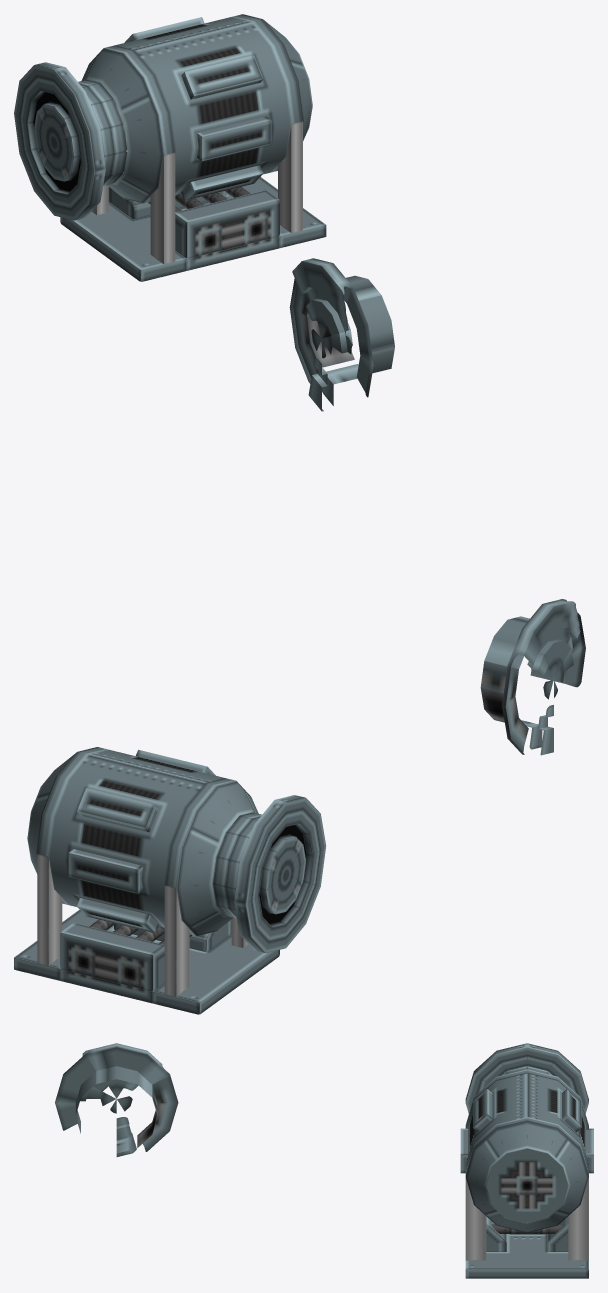
The model's file is breeder_fusion.obj.
3 views of the same model, one above another, from view 1: azimuth 30°, elevation 25°; view 2: azimuth 150°, elevation 25°; view 3: azimuth 270°, elevation 25° (orthographic). The views are drawn at different scales.
Visible parts, largest first — view 1: Breeder, BreederAlt; view 2: Breeder, BreederAlt; view 3: Breeder, BreederAlt.
Boxes of the visible parts, x1=… form: Breeder: x1=14, y1=14, x2=326, y2=281; BreederAlt: x1=289, y1=258, x2=394, y2=411; Breeder: x1=14, y1=747, x2=326, y2=1014; BreederAlt: x1=480, y1=599, x2=585, y2=755; Breeder: x1=460, y1=1043, x2=593, y2=1278; BreederAlt: x1=55, y1=1043, x2=178, y2=1156.
Size of the model in its own units: 5 by 5 by 14.12.
